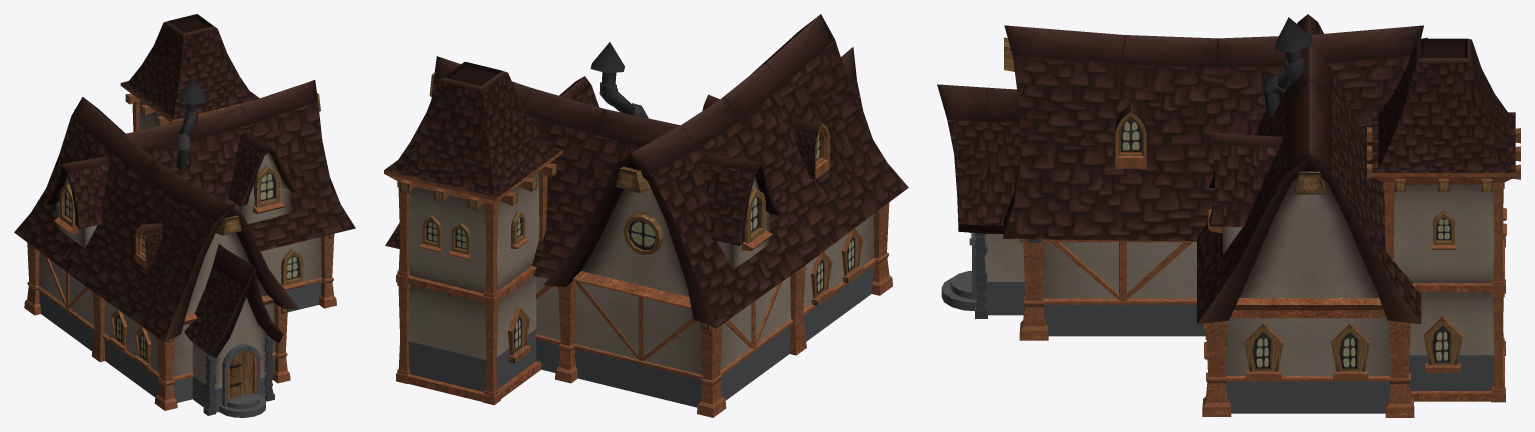
Rendered from fanasty_mod_village_building19.fbx.
The picture shows the model from 3 angles, left to right: view 1: azimuth 30°, elevation 25°; view 2: azimuth 150°, elevation 25°; view 3: azimuth 270°, elevation 25°; orthographic projection. The views are drawn at different scales.
Visible parts, largest first — view 1: village_building_019; view 2: village_building_019; view 3: village_building_019.
Part boxes in pixels (box(x1,y1,x2,y2)): village_building_019: box(14, 14, 355, 417); village_building_019: box(384, 14, 908, 417); village_building_019: box(937, 14, 1520, 417).
Size of the model in its own units: 12.51 by 10.71 by 17.31.
